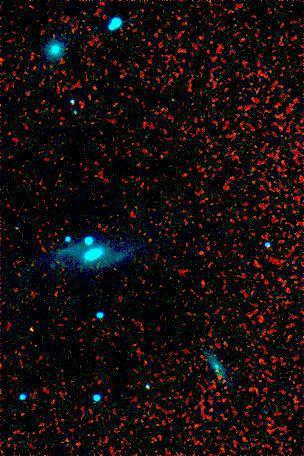star: (46, 245, 76, 275)
